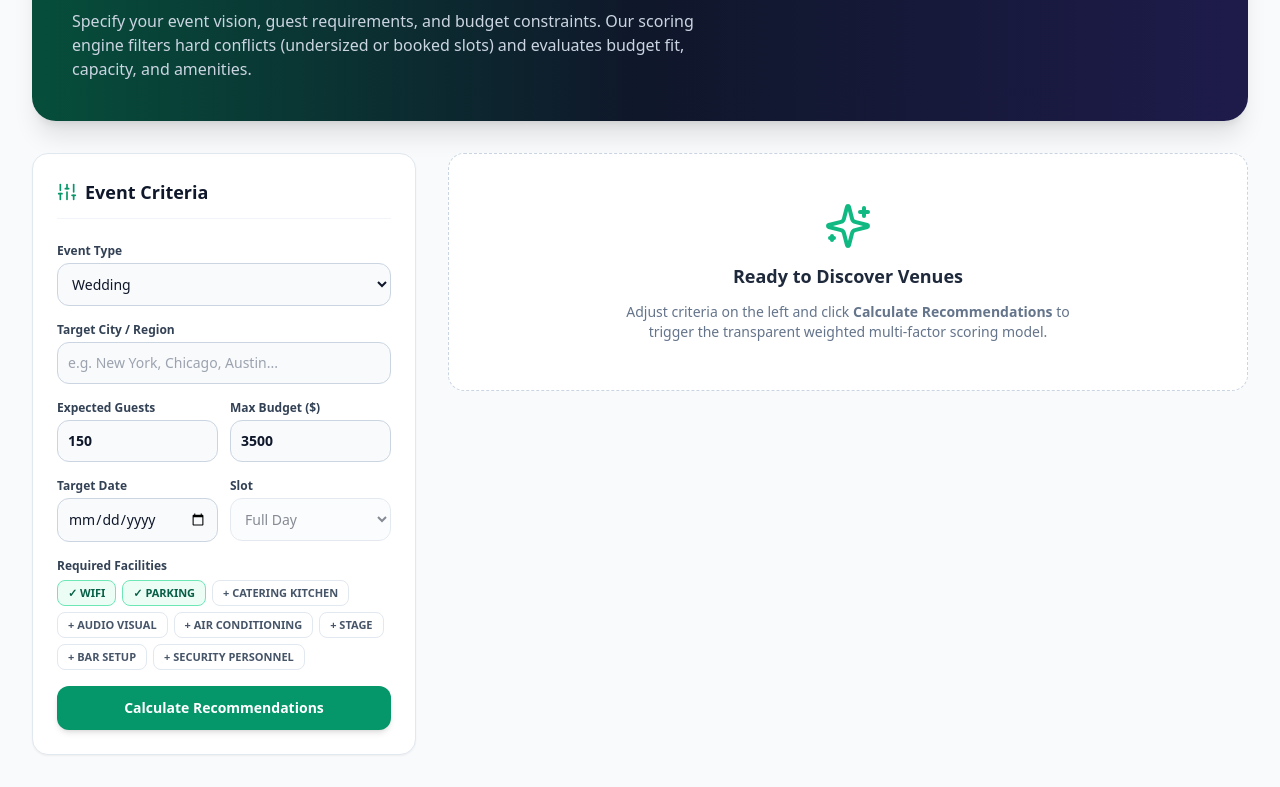
Test case: RecommendationsPage Component › shows empty state when no venues meet hard constraints
(page scrolled)
Click the button "Calculate Recommendations" at (224, 708), box [57, 686, 391, 730]
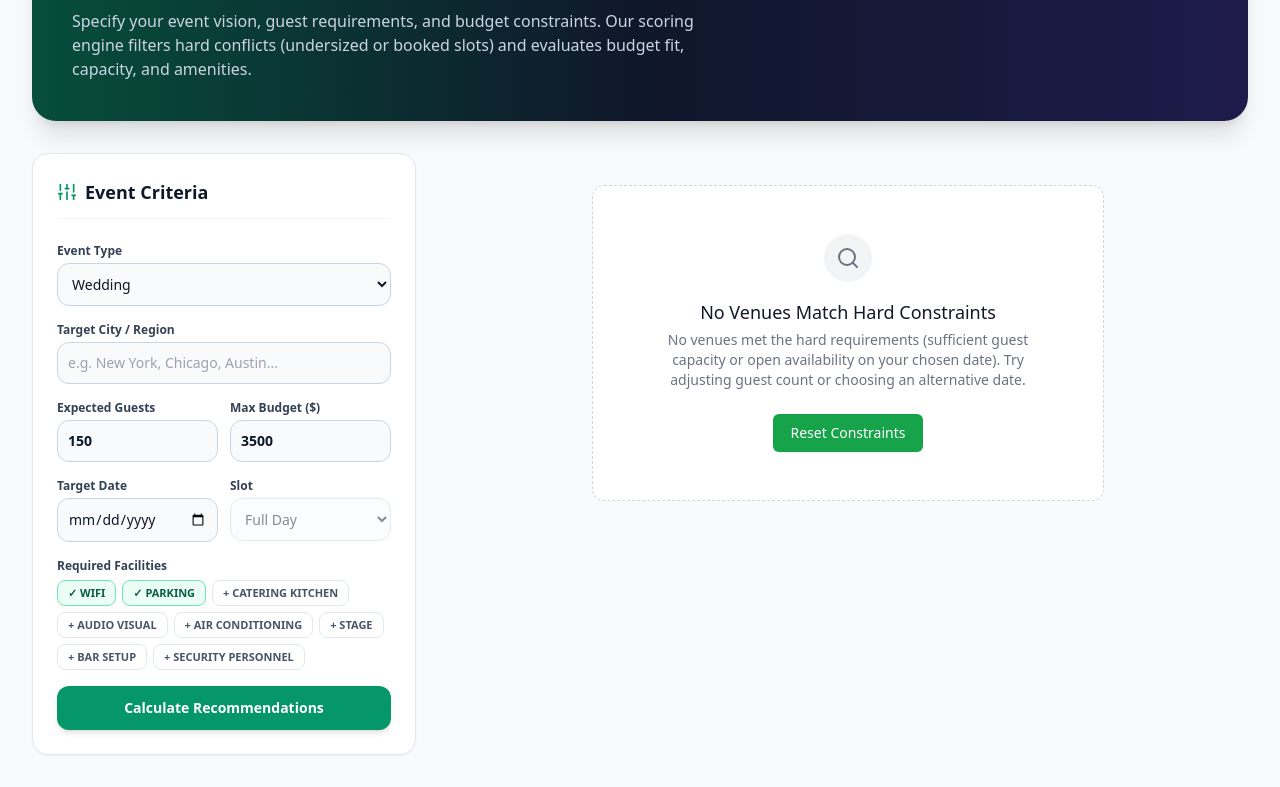
Expected: the heading "No Venues Match Hard Constraints" is shown, [700, 300, 996, 324]
